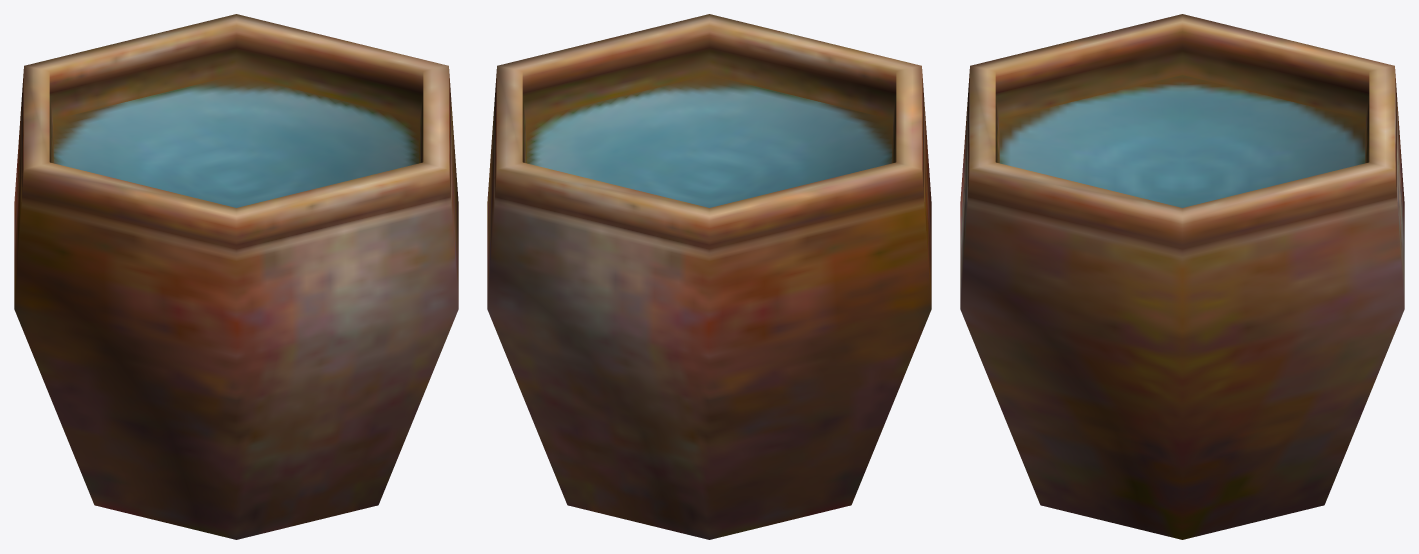
File: shui_gang_001.FBX
3 renders of one model, left to right at view 1: azimuth 30°, elevation 25°; view 2: azimuth 150°, elevation 25°; view 3: azimuth 270°, elevation 25°, orthographic.
Visible parts, largest first — view 1: shui_gang_001; view 2: shui_gang_001; view 3: shui_gang_001.
Boxes of the visible parts, <box> form: shui_gang_001: <box>14,14,458,539</box>; shui_gang_001: <box>487,14,931,539</box>; shui_gang_001: <box>960,14,1404,539</box>.
Bounding box in the file's own units: 137 × 105 × 119.
1 material, 1 textured.
